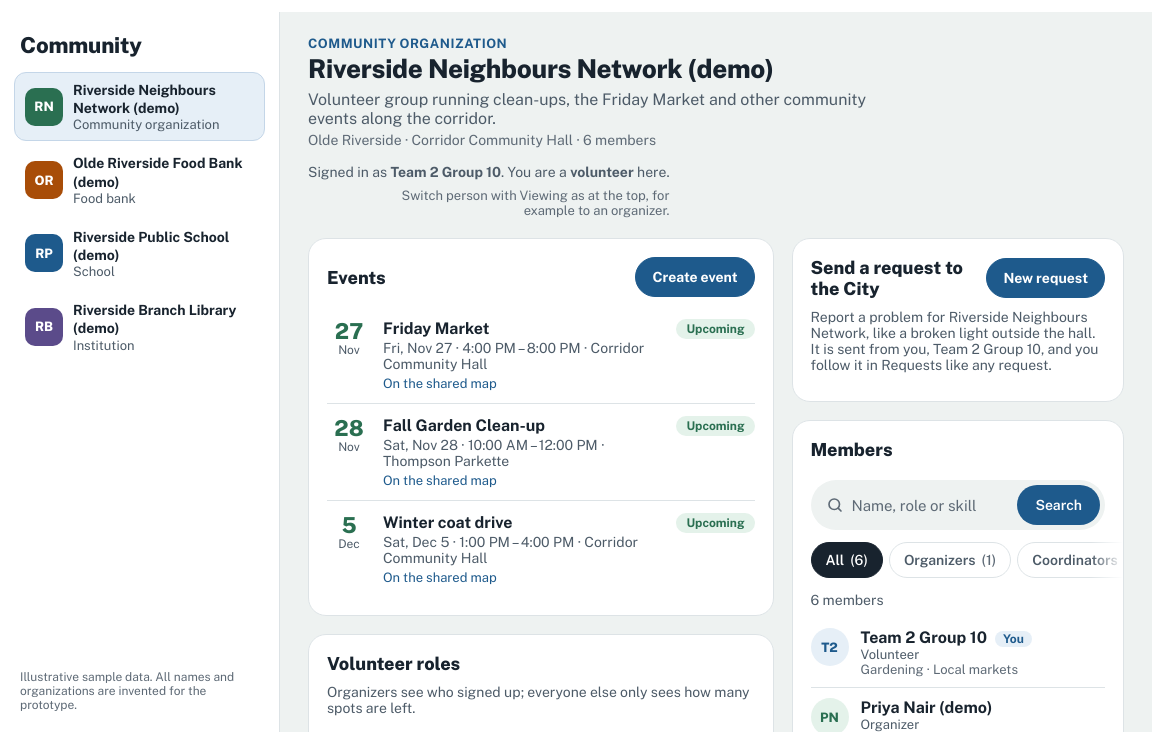
Test: CommunityPage › event permits (KAN-52) › asks for a permit only when the place is public space
Check: the heading "Riverside Neighbours Network (demo)" is shown, box [308,53,774,84]
Click the button "Create event" at (695, 277), box [635,257,754,297]
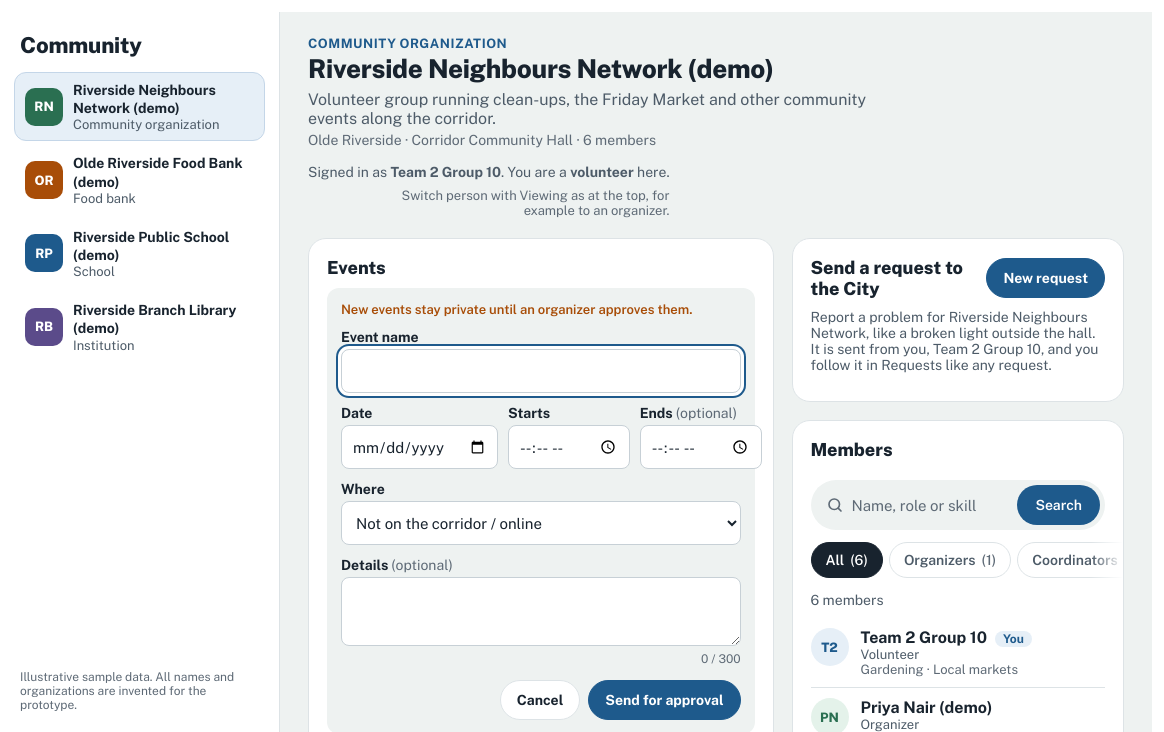
Type "Bulb planting" into the field labelled "Event name" at (541, 371), box [341,349,740,393]
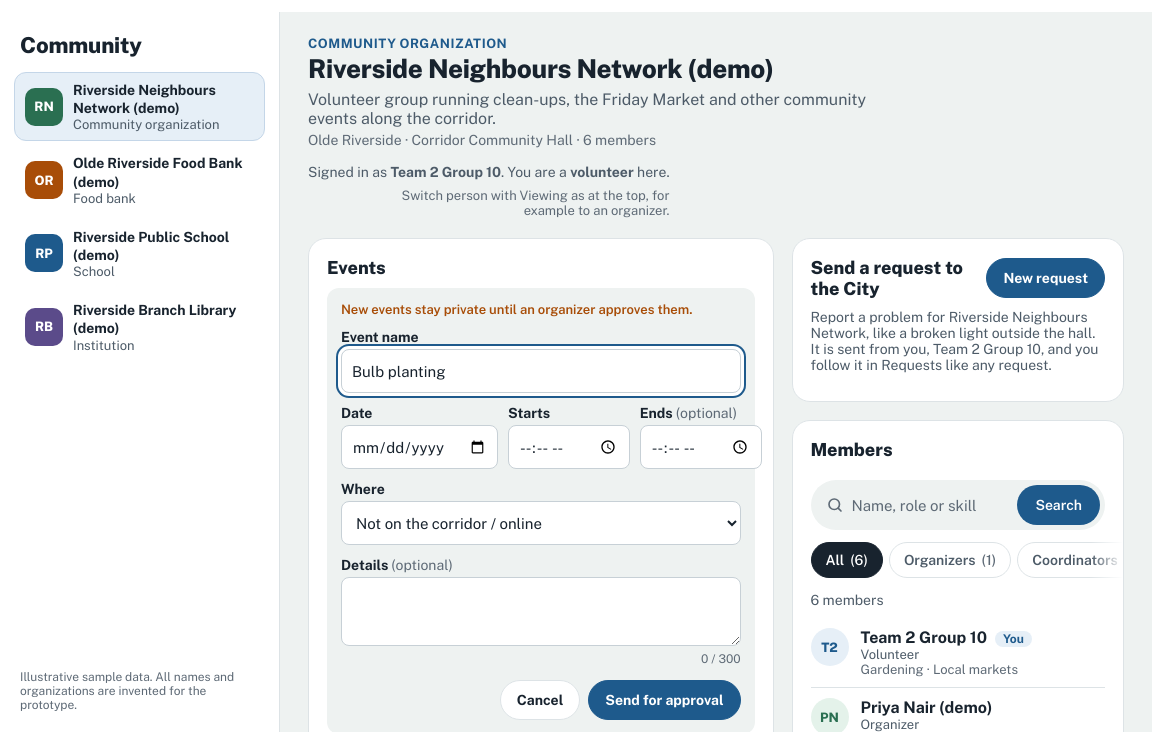
Type "2026-11-21" into the date field labelled "Date" at (420, 447), box [341,425,498,469]
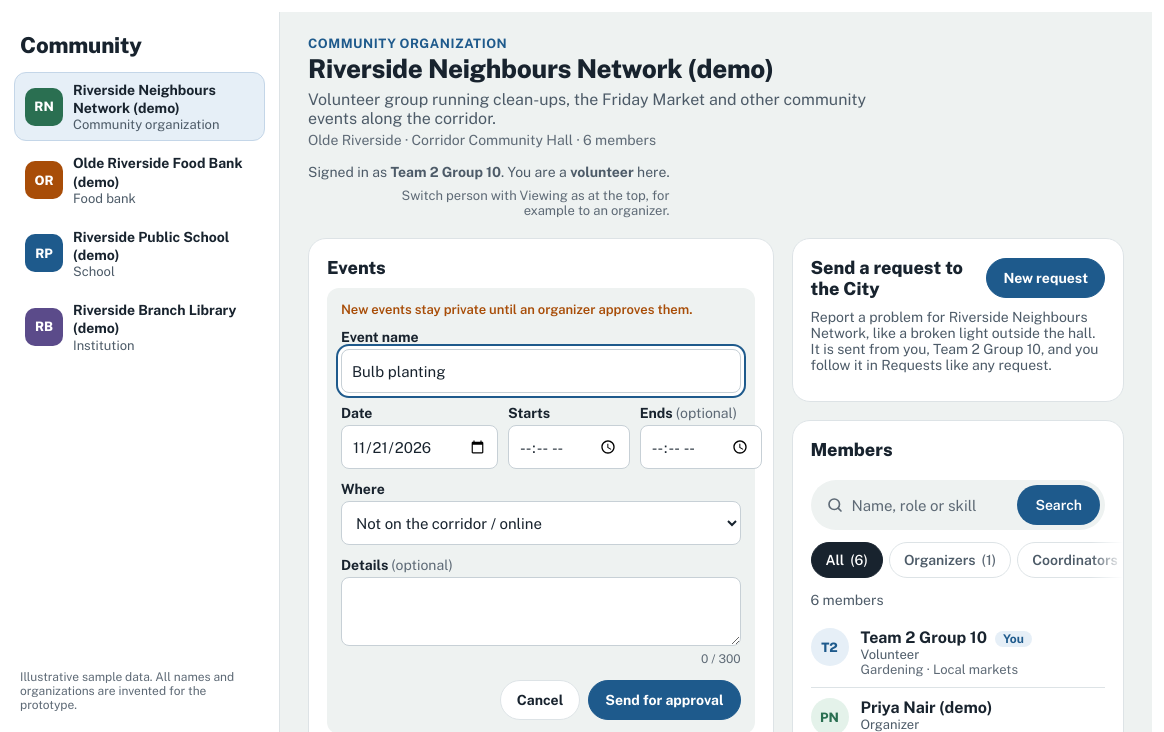
Type "10:00" into the time field labelled "Starts" at (569, 447), box [508,425,630,469]
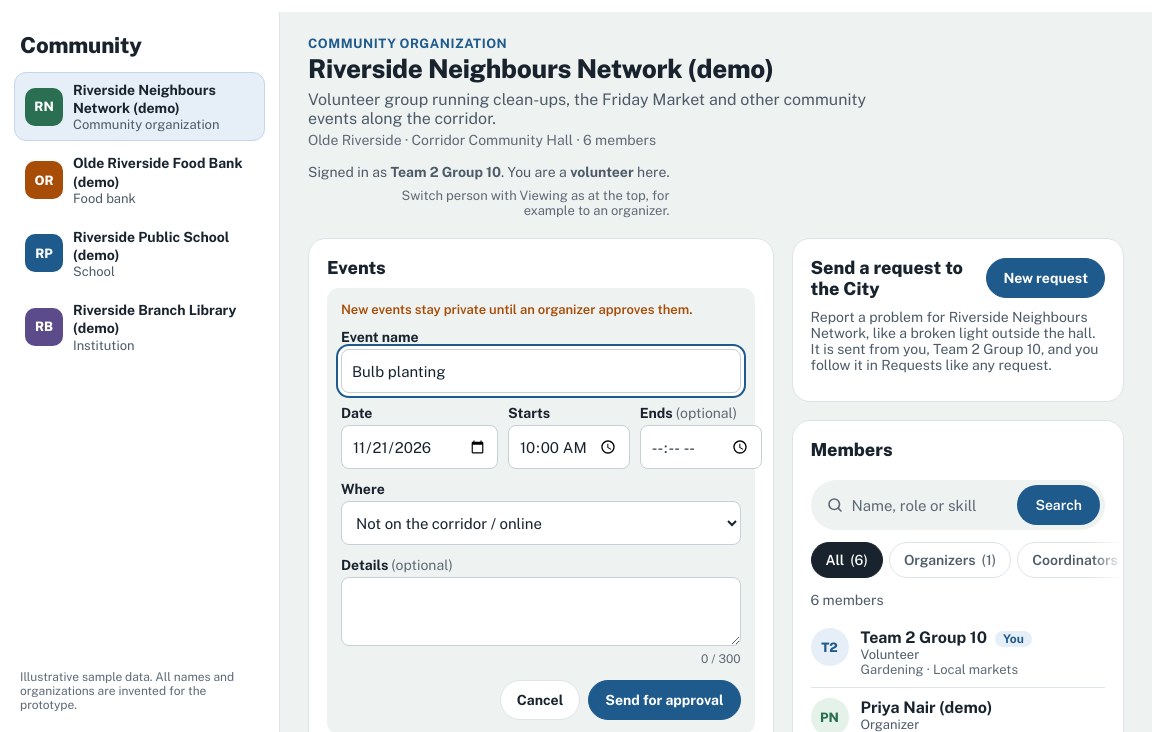
Select "Corridor Community Hall" in the dropdown labelled "Where" at (541, 523), box [341,501,740,545]
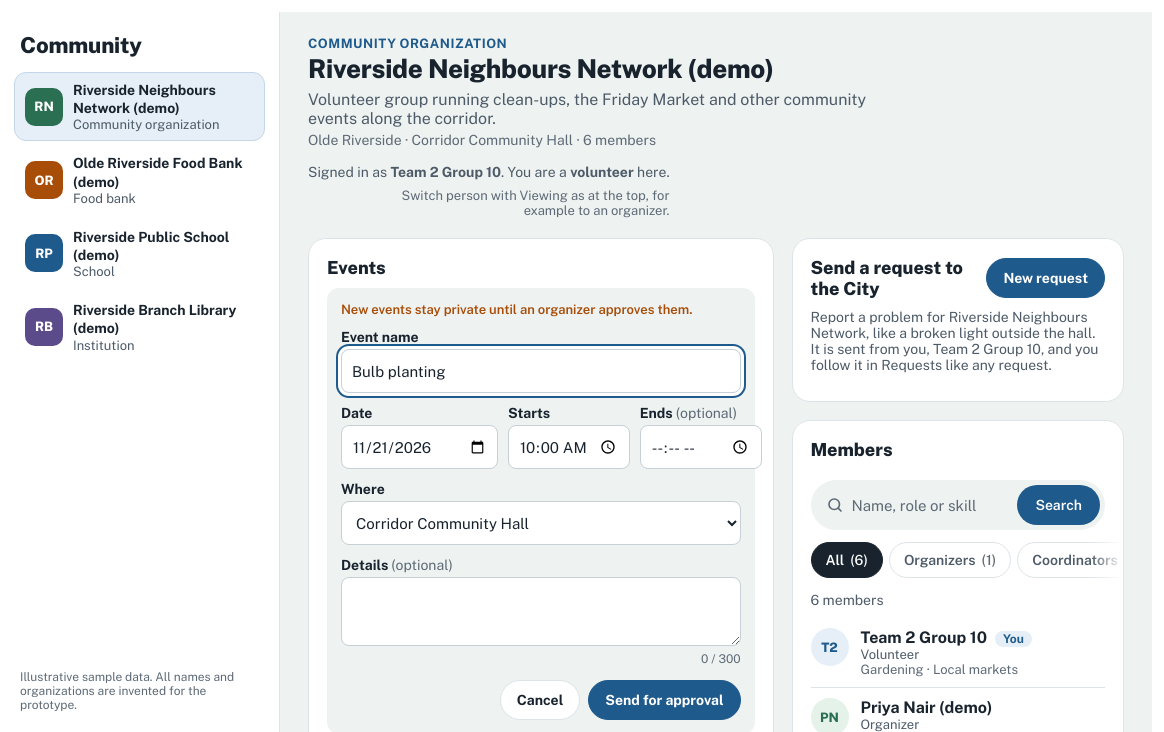
Check: the field labelled "Permit" is not shown
Select "Thompson Parkette" in the dropdown labelled "Where" at (541, 523), box [341,501,740,545]
(page scrolled)
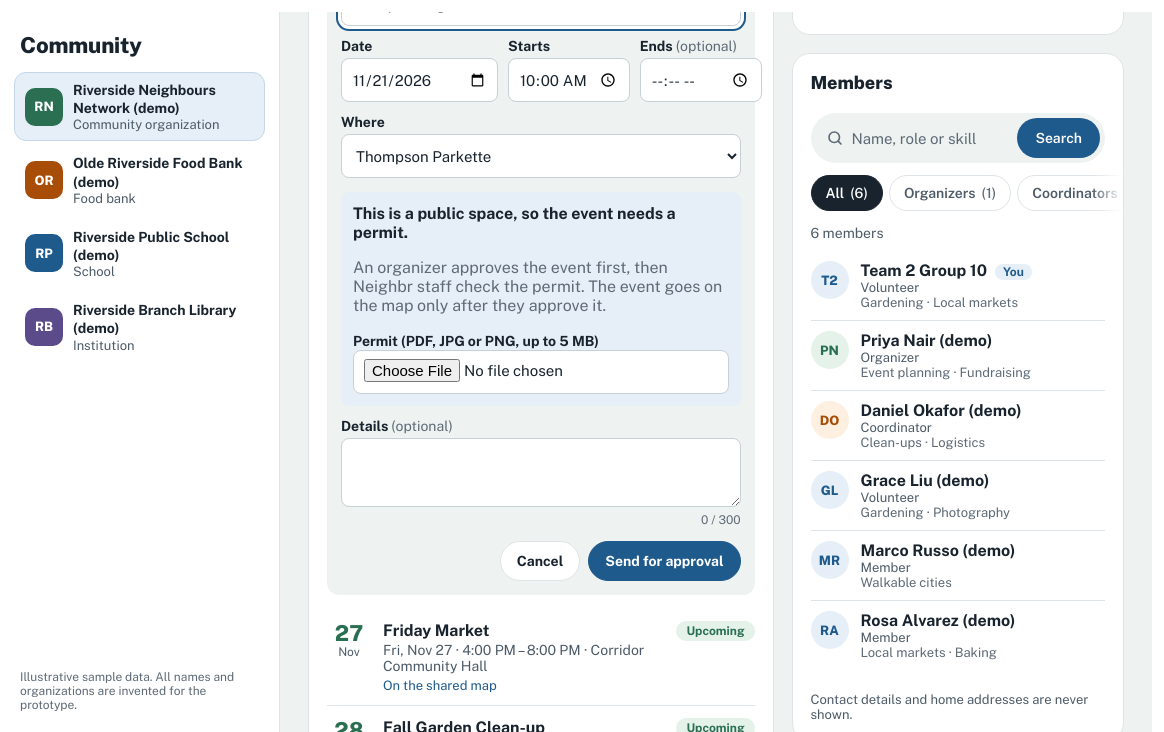
Check: the text "This is a public space, so the event needs a permit." is shown, box [353,204,728,242]
Check: the file field labelled "Permit (PDF, JPG or PNG, up to 5 MB)" is shown, box [353,350,728,394]
